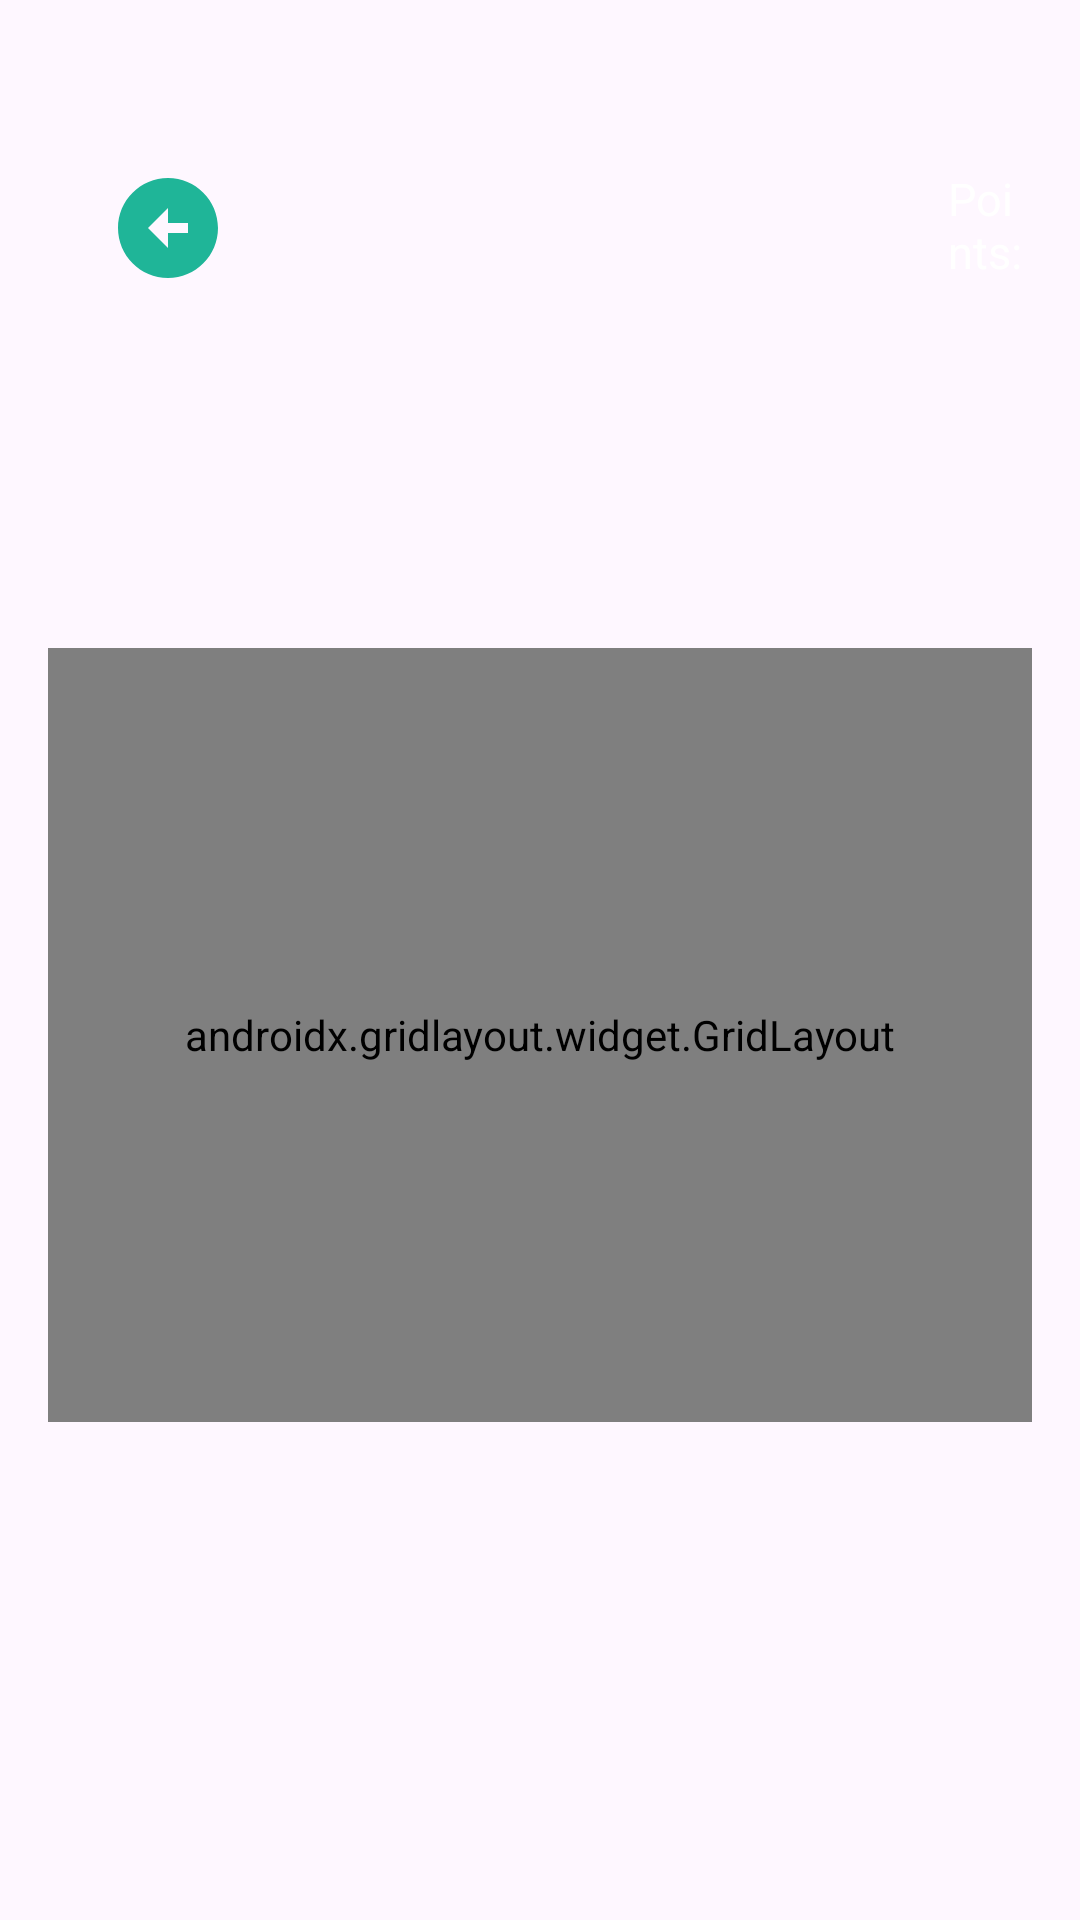

Icons on this 1080px x 1920px Android screen, each with the point to tap as [x,y]:
arrow circle left: [168,228]
